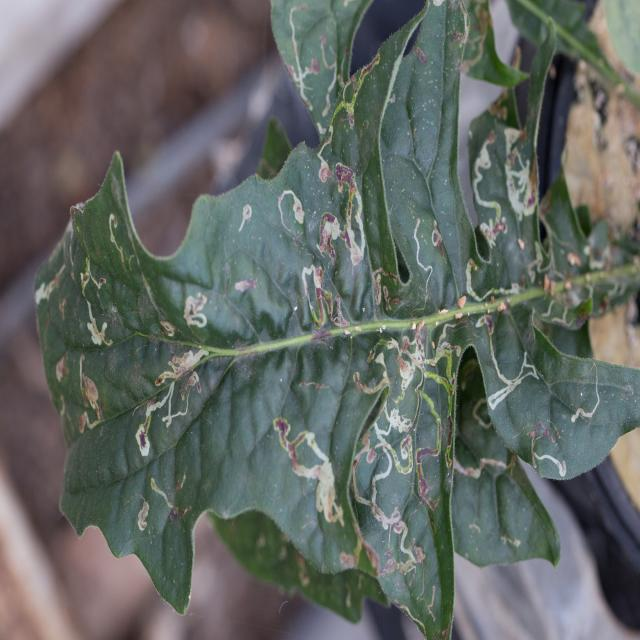Serpentine leafminer: (276, 172, 460, 592), (462, 117, 552, 448), (128, 284, 218, 539), (48, 268, 128, 438), (564, 354, 608, 450)
